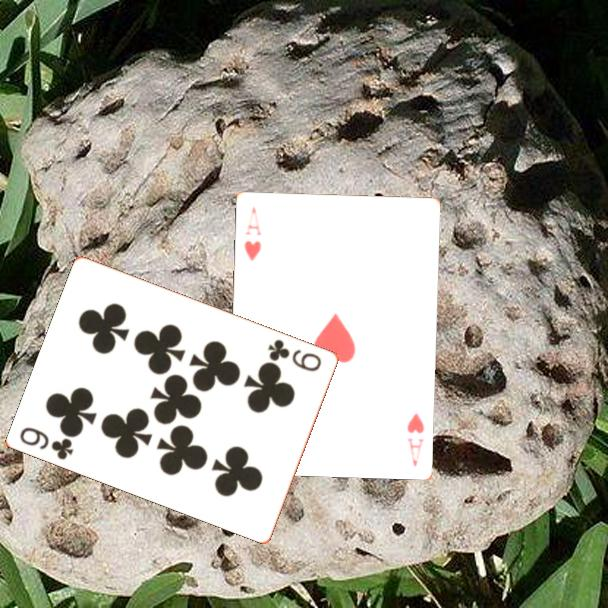c09: (17, 423, 77, 463), (265, 335, 325, 374)
h01: (240, 203, 264, 263), (403, 409, 427, 469)
